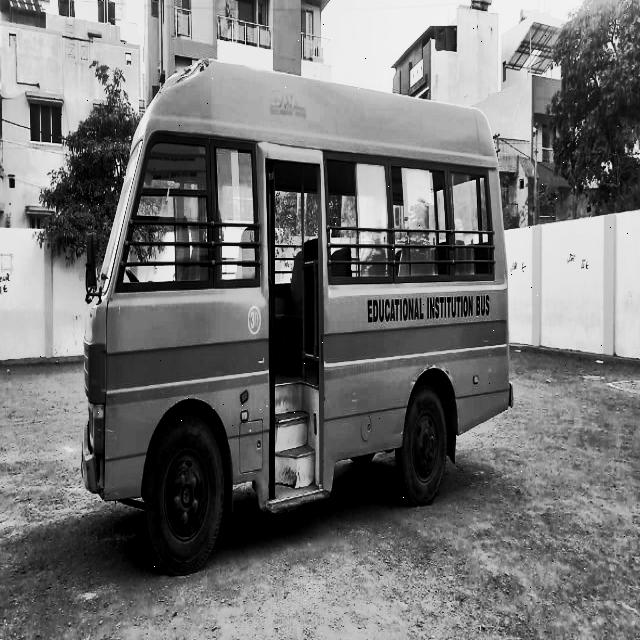Bus: (76, 42, 528, 563)
